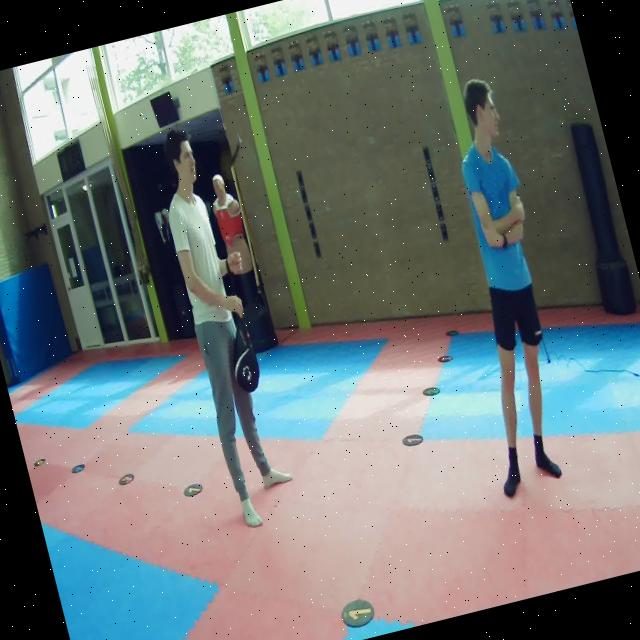paddle: (232, 295, 259, 393)
